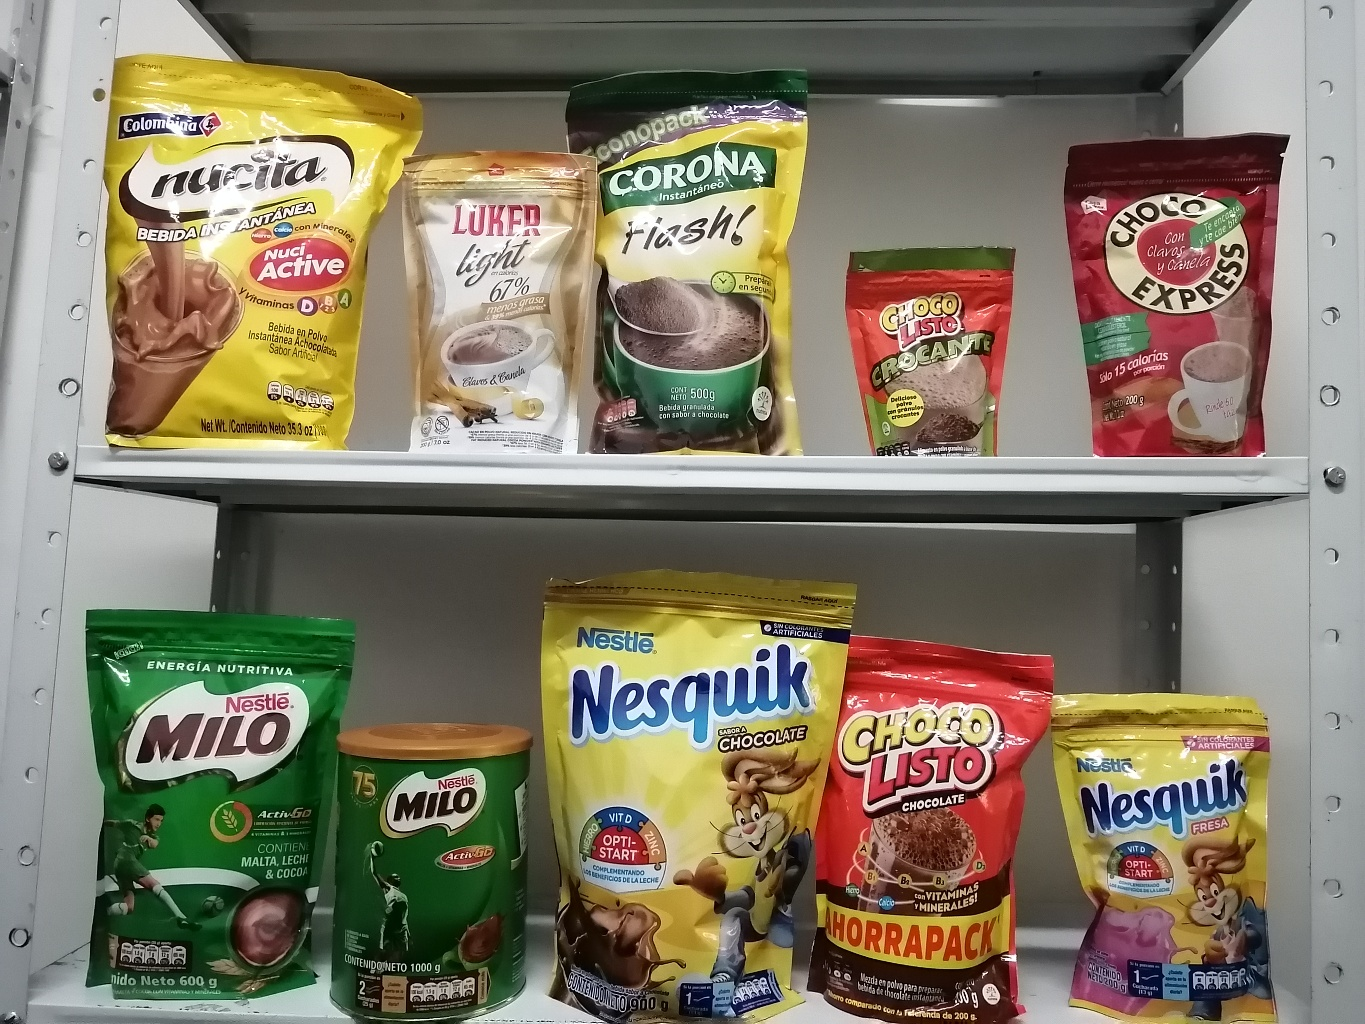COL0170102DYP10000: (836, 233, 1038, 457)
COL0170103DYP40000: (806, 618, 1079, 1020)
COL0170305DYP20000: (1015, 666, 1303, 1023)
